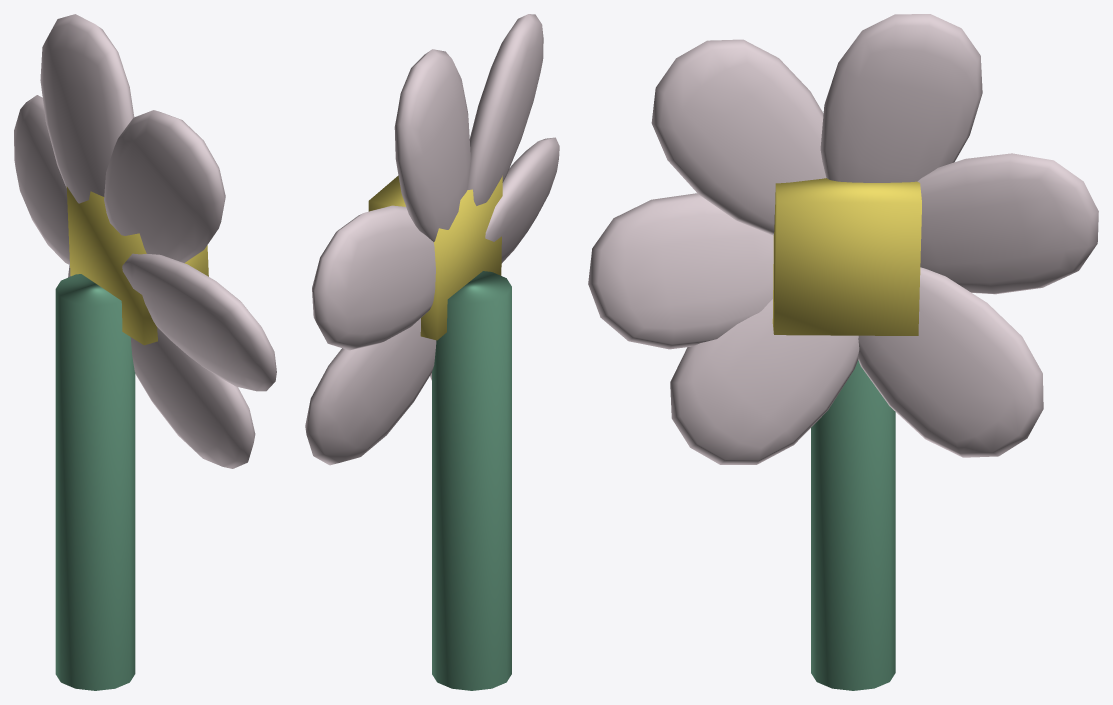
File: flower-white.gltf
3 views of the same model, side by side, from view 1: azimuth 30°, elevation 25°; view 2: azimuth 150°, elevation 25°; view 3: azimuth 270°, elevation 25° (orthographic). The views are drawn at different scales.
Parts seen in each view (by area): view 1: fleur-blanche-pétales, fleur-blanche..tige, fleur-blanche.centre; view 2: fleur-blanche-pétales, fleur-blanche..tige, fleur-blanche.centre; view 3: fleur-blanche-pétales, fleur-blanche..tige, fleur-blanche.centre.
Boxes of the visible parts, x1=… form: fleur-blanche-pétales: x1=14, y1=14, x2=276, y2=468; fleur-blanche..tige: x1=55, y1=274, x2=135, y2=690; fleur-blanche.centre: x1=66, y1=186, x2=208, y2=345; fleur-blanche-pétales: x1=305, y1=14, x2=559, y2=465; fleur-blanche..tige: x1=432, y1=271, x2=511, y2=690; fleur-blanche.centre: x1=368, y1=175, x2=502, y2=340; fleur-blanche-pétales: x1=588, y1=14, x2=1098, y2=464; fleur-blanche..tige: x1=811, y1=360, x2=895, y2=690; fleur-blanche.centre: x1=772, y1=178, x2=921, y2=335.
Size of the model in its own units: 0.1497 by 0.7741 by 0.5356.
